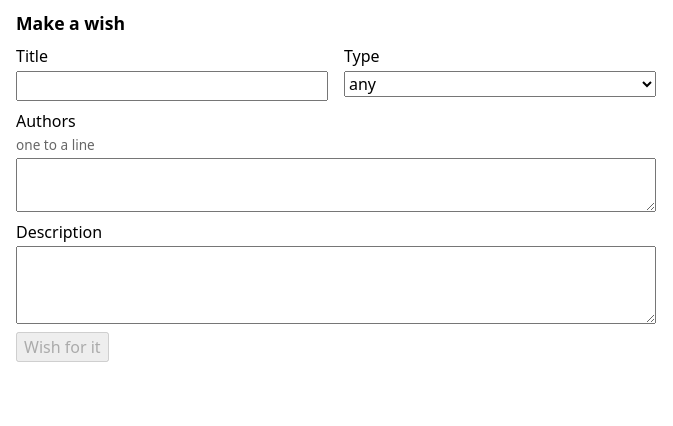
Test: making a wish › keeps the form, and says why, when the node refuses
Step 1. Type "Krakatit" into the field labelled "Title" → (172, 86), box left=16, top=71, right=328, bottom=101
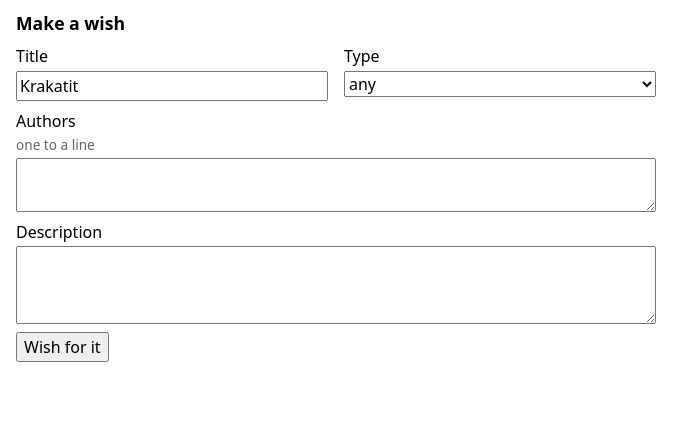
Step 2. Click the button "Wish for it" → (62, 347), box left=16, top=332, right=109, bottom=362
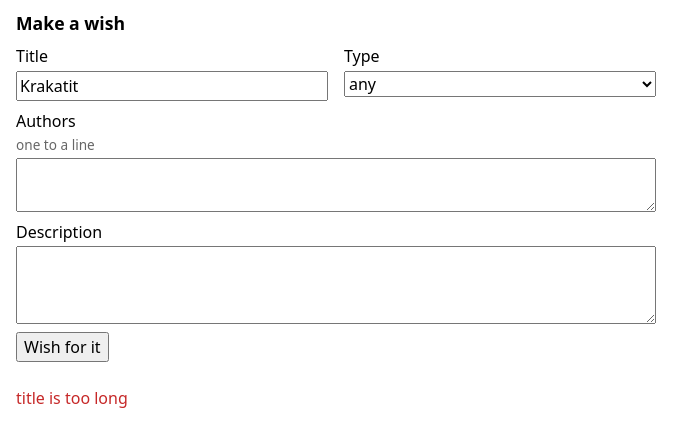
Expected: the text "title is too long" is shown, left=16, top=387, right=128, bottom=409
